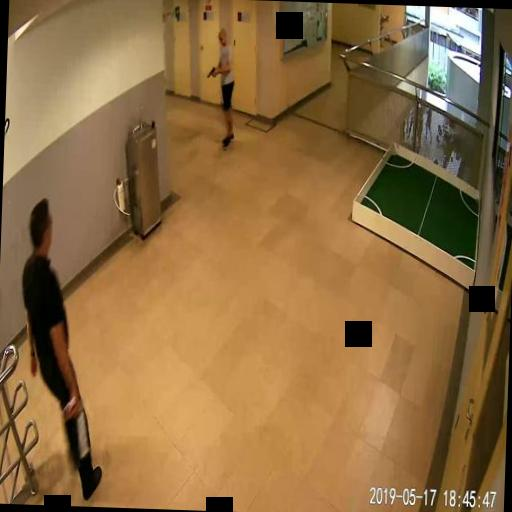Handgun: (206, 64, 216, 76)
